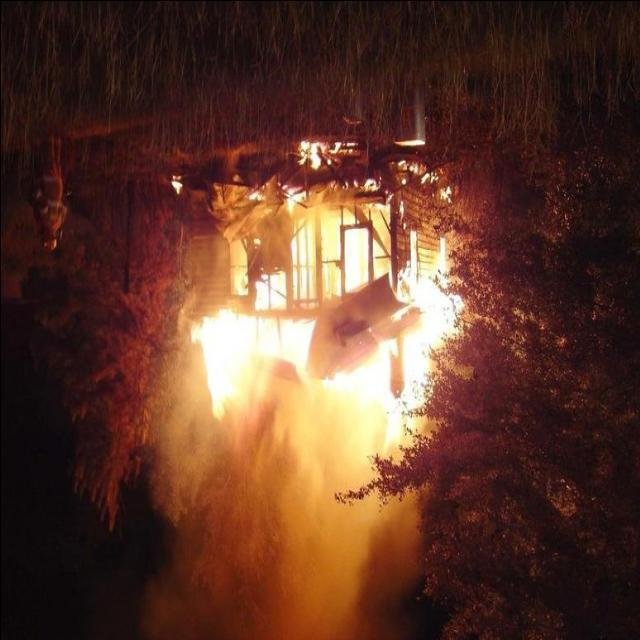Fire: (180, 130, 464, 462)
